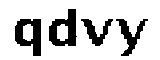d: (47, 7, 78, 51)
q: (11, 18, 44, 60)
v: (79, 17, 114, 53)
y: (114, 15, 149, 60)
